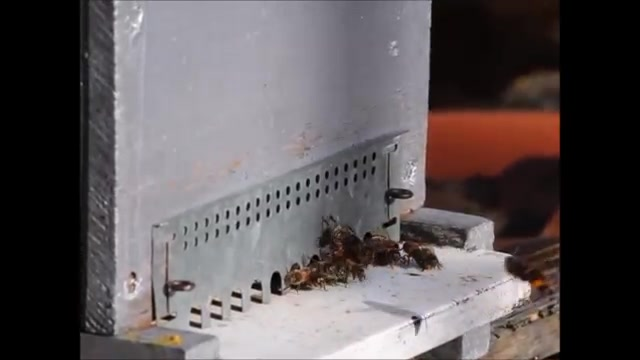bee: (313, 254, 365, 284), (399, 238, 441, 268), (360, 236, 396, 267), (328, 222, 362, 253), (287, 268, 311, 290)
